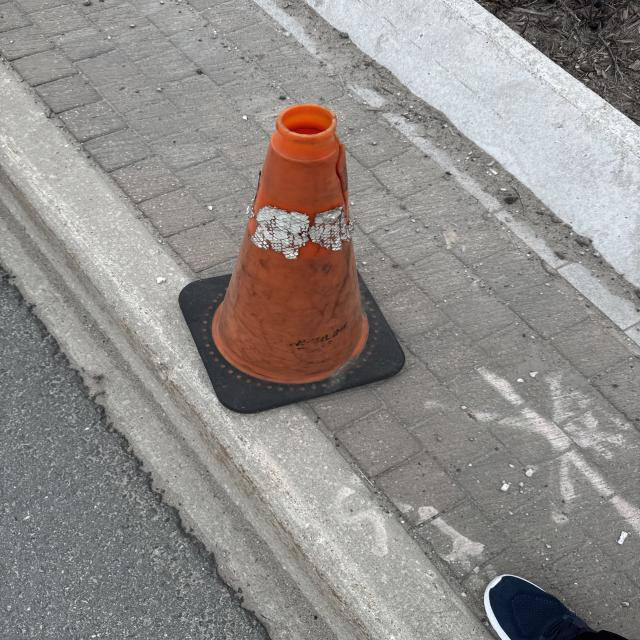Traffic Cone: (181, 100, 412, 412)
